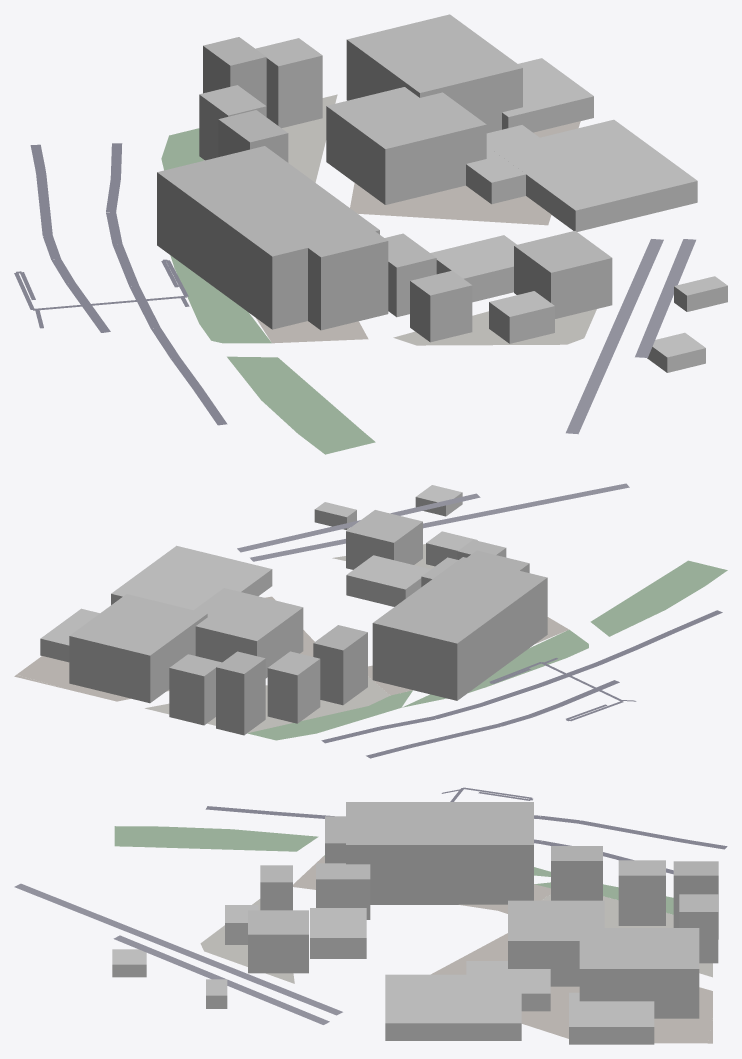
Rendered from 104_99_mid.glb.
3 renders of one model, top to bottom at view 1: azimuth 30°, elevation 25°; view 2: azimuth 150°, elevation 25°; view 3: azimuth 270°, elevation 25°, orthographic. The views are drawn at different scales.
Size of the model in its own units: 498 by 59.02 by 597.
